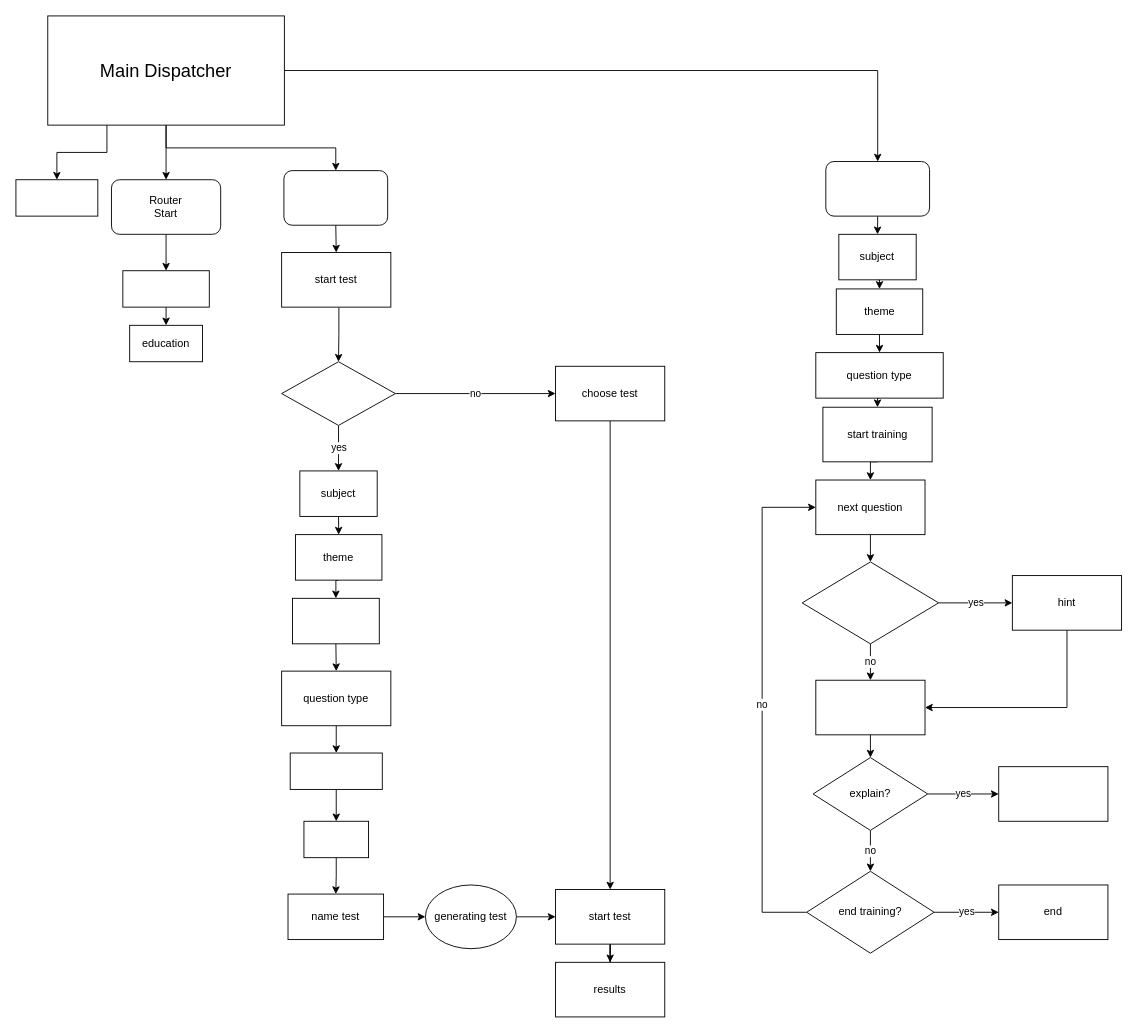
The diagram is 1138 pixels wide and 1033 high, and some of its shapes have lost their labels. The centre of each missing label's shape, as x and y in pixels:
check answer: the point at 870,707
create test?: the point at 338,393
difficulty: the point at 335,770
explanation: the point at 1053,793
help: the point at 56,197
name: the point at 165,288
number of questions: the point at 335,620
Router Test: the point at 335,197
Router Training: the point at 877,188
show hint?: the point at 870,602
time: the point at 336,839
